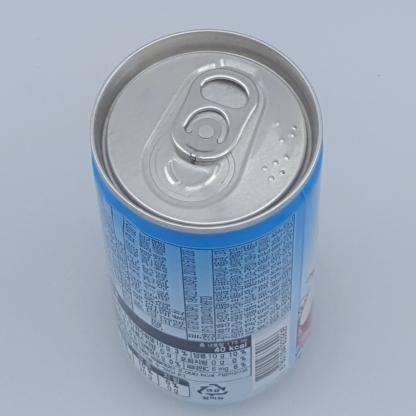-------175ml: (90, 29, 323, 405)
